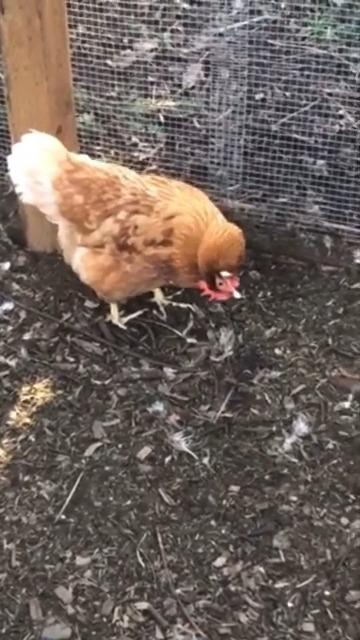AbNormal: (12, 129, 258, 330)
